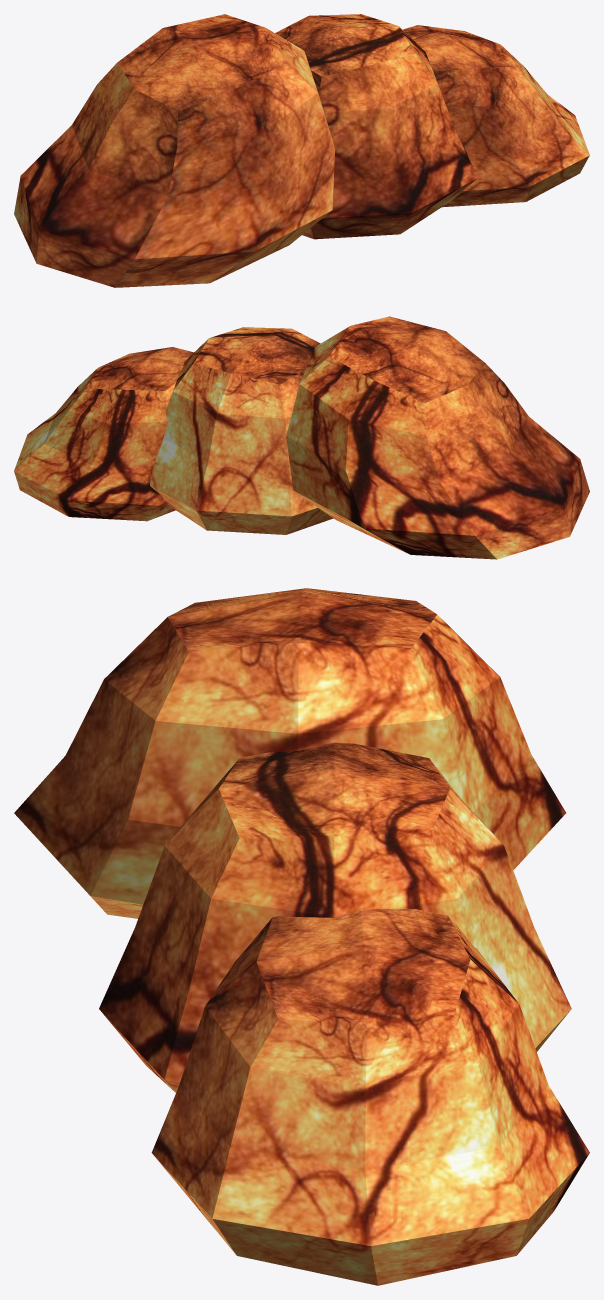
Rendered from sm_fleshsac_3.glb.
3 views of the same model, one above another, from view 1: azimuth 30°, elevation 25°; view 2: azimuth 150°, elevation 25°; view 3: azimuth 270°, elevation 25° (orthographic). The views are drawn at different scales.
Visible parts, largest first — view 1: sm_fleshsac_3; view 2: sm_fleshsac_3; view 3: sm_fleshsac_3.
Part boxes in pixels (x1=…): sm_fleshsac_3: x1=14, y1=14, x2=589, y2=287; sm_fleshsac_3: x1=14, y1=316, x2=589, y2=559; sm_fleshsac_3: x1=14, y1=588, x2=589, y2=1285.
Bounding box in the file's own units: 13.08 × 4.95 × 6.61.
Materials: 1 (1 with a texture image).
